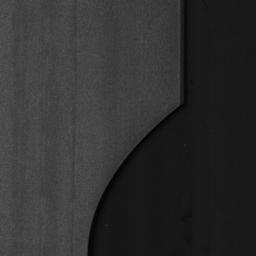Crescent gap: (87, 106, 179, 256)
